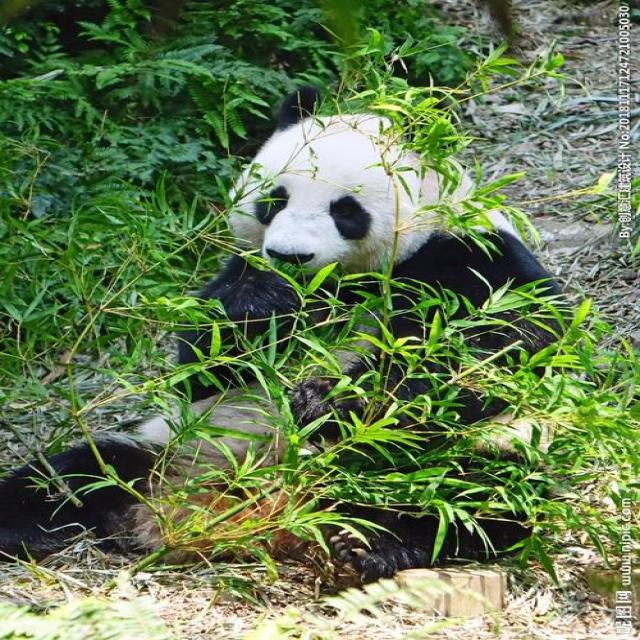panda: (0, 79, 582, 581)
